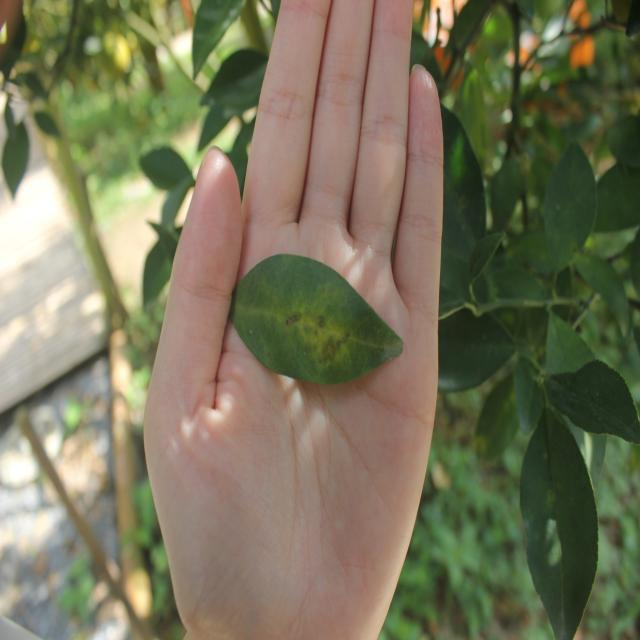canker: (268, 290, 368, 378)
